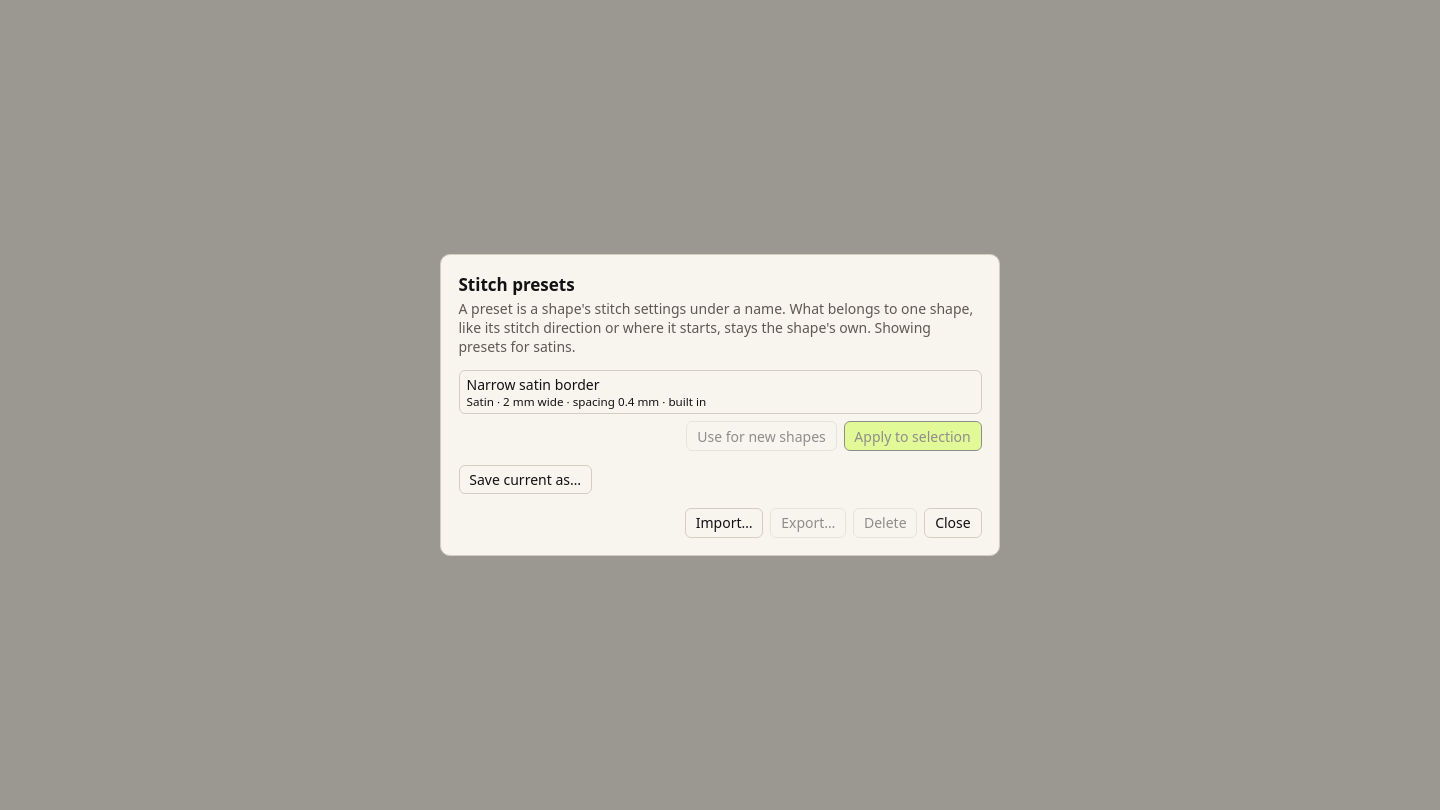
Scenario: the Stitch presets window › applies the picked preset to the selection, and says so
The width and height of the screenshot is (1440, 810).
expect the button "Apply to selection" is disabled: met, box [844,421,982,451]
Click the button that starts with "Narrow satin border": (533, 385) [458,370,982,414]
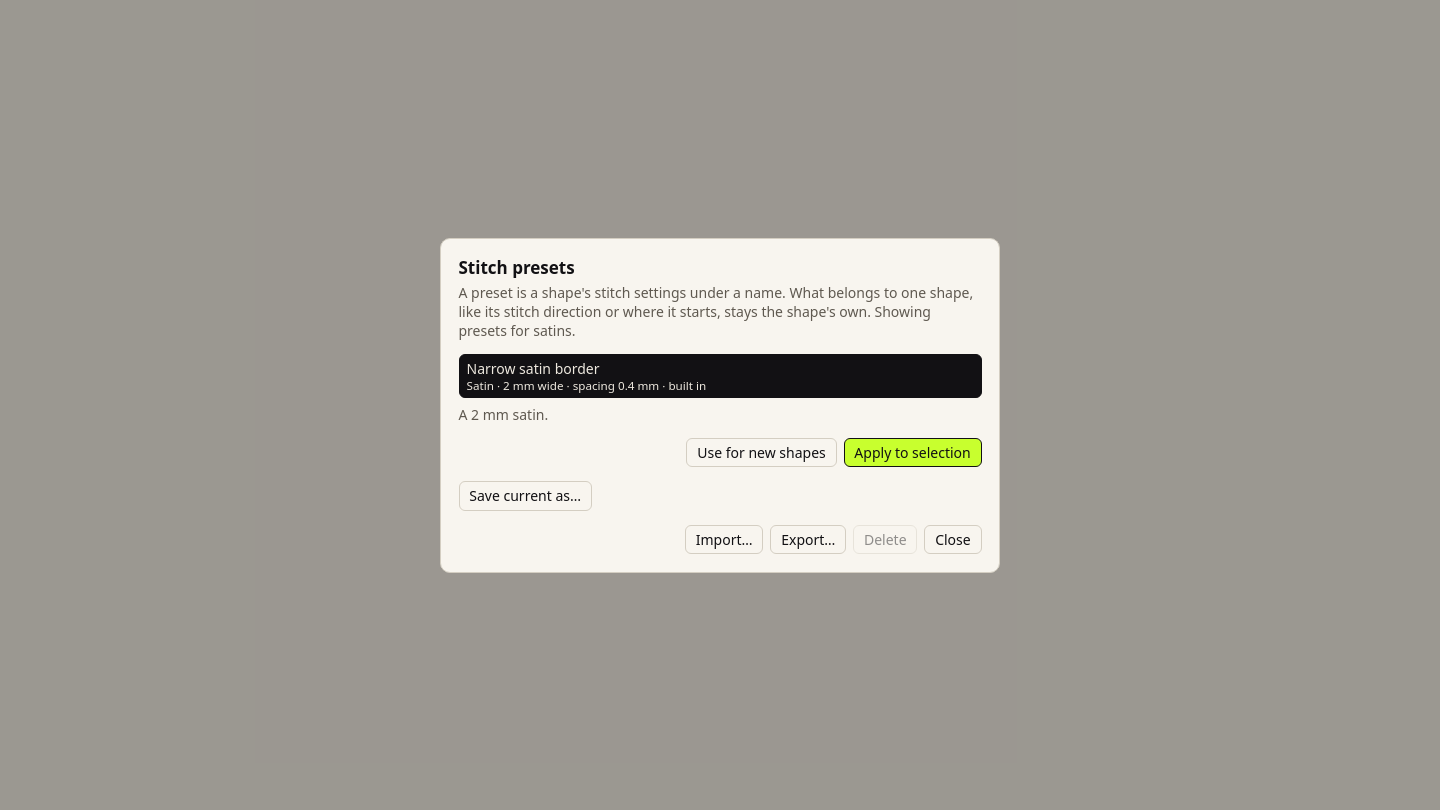
expect the dialog shows "A 2 mm satin.": met, box [458,405,548,424]
Click the button "Apply to selection": (913, 453) [844,438,982,467]
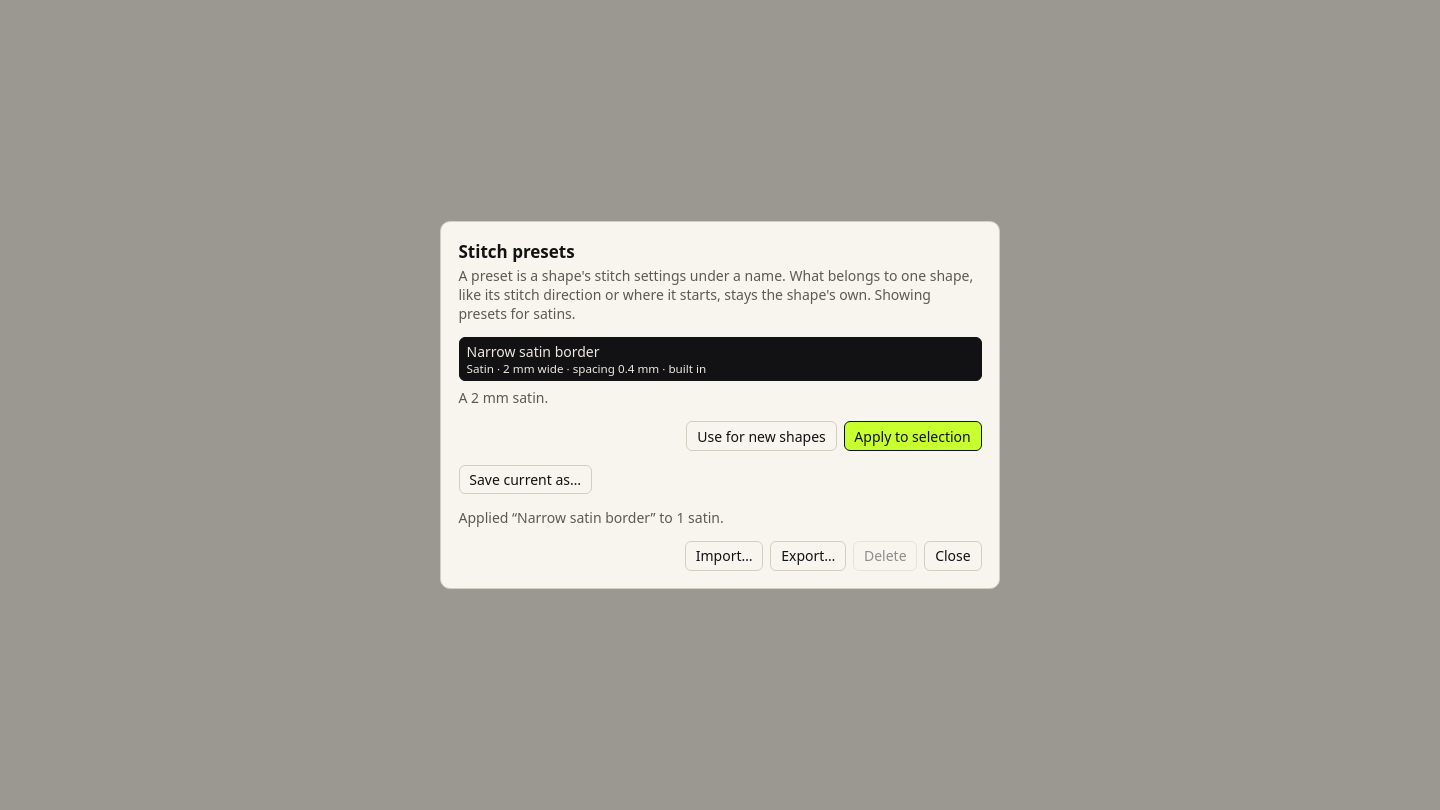
expect the dialog shows "Applied “Narrow satin border” to 1 satin": met, box [458,508,724,527]
